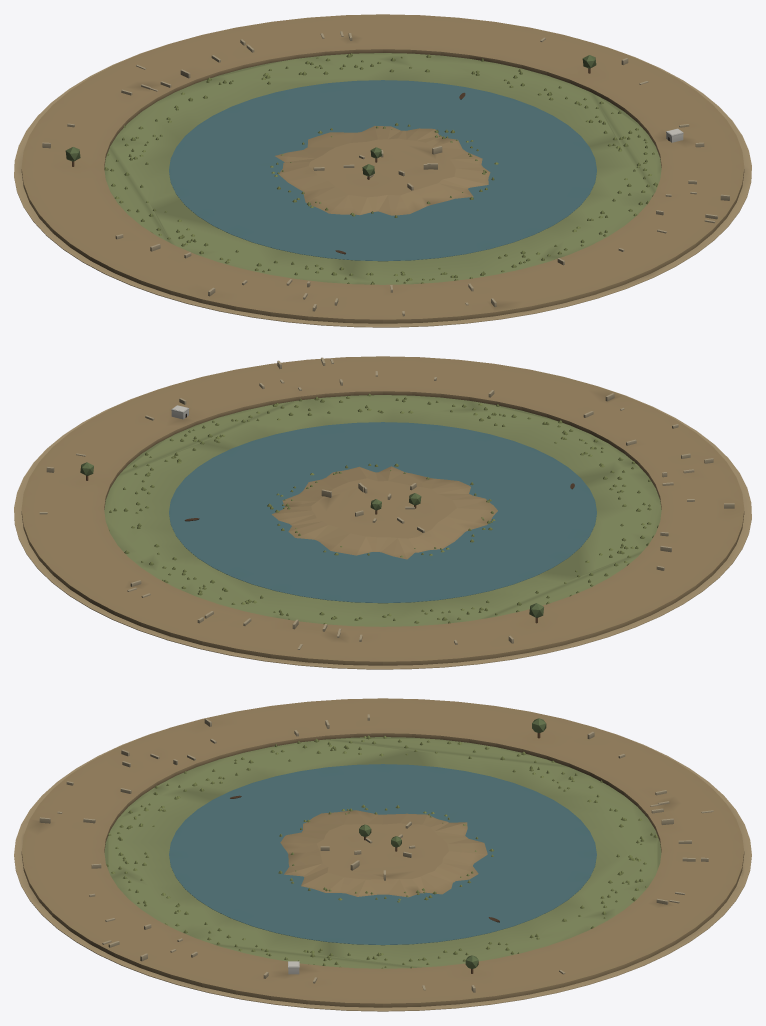
Rendered from cothon-silted.glb.
3 views of the same model, one above another, from view 1: azimuth 30°, elevation 25°; view 2: azimuth 150°, elevation 25°; view 3: azimuth 270°, elevation 25° (orthographic).
Parts seen in each view (by area): view 1: p0_lagoon, p1_ruins, p2_life; view 2: p0_lagoon, p1_ruins, p2_life; view 3: p0_lagoon, p1_ruins, p2_life.
Part boxes in pixels (left/top/right/bottom): p0_lagoon: left=14, top=38, right=751, bottom=327; p1_ruins: left=21, top=14, right=744, bottom=323; p2_life: left=65, top=55, right=683, bottom=254; p0_lagoon: left=14, top=380, right=751, bottom=669; p1_ruins: left=21, top=356, right=744, bottom=665; p2_life: left=80, top=405, right=574, bottom=623; p0_lagoon: left=14, top=731, right=751, bottom=1011; p1_ruins: left=21, top=698, right=744, bottom=1007; p2_life: left=230, top=718, right=546, bottom=974.
Bounding box in the file's own units: 331 × 12.08 × 331.
